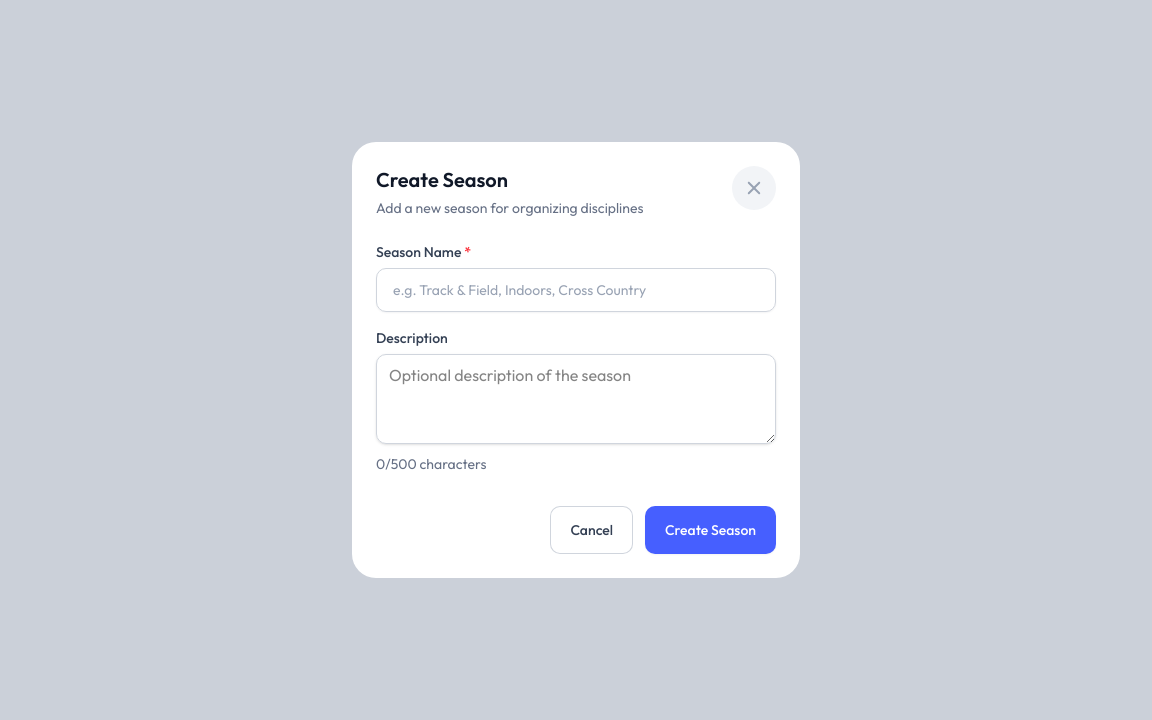
Scenario: SeasonModal › Create Mode › should validate required fields
Step 1. Click the button "Create Season" → {"x": 710, "y": 530}, box [645,506,776,554]
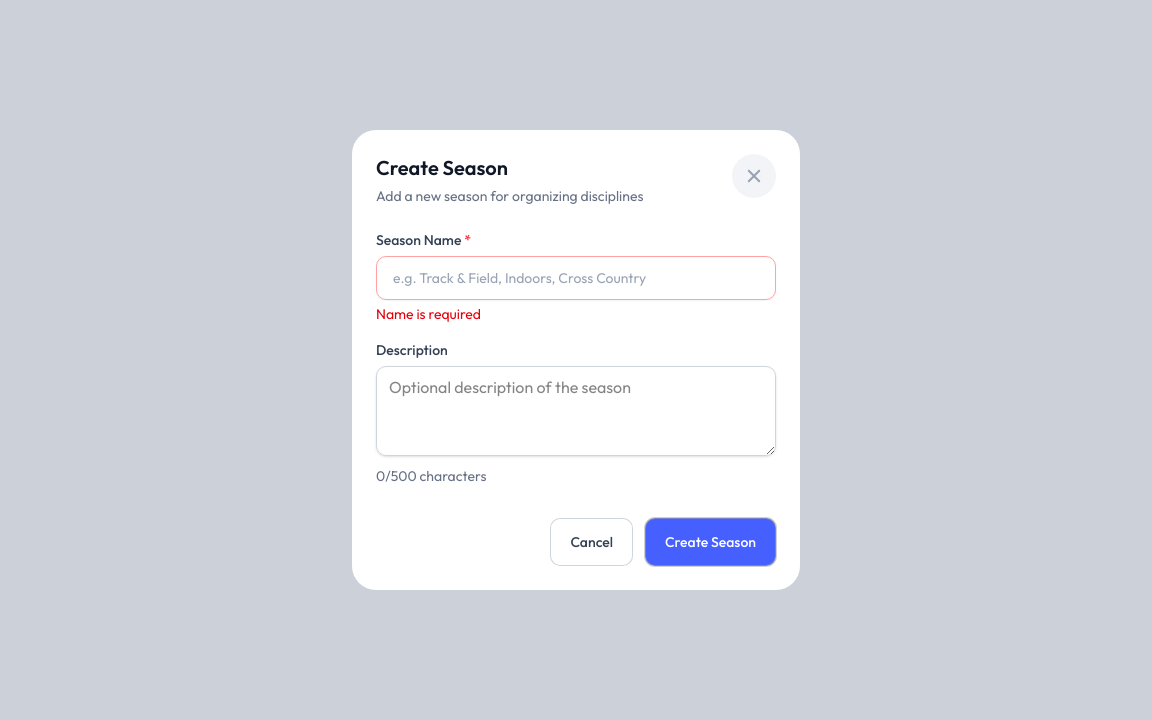
Now the text "Name is required" is shown, box [376,305,481,323]
